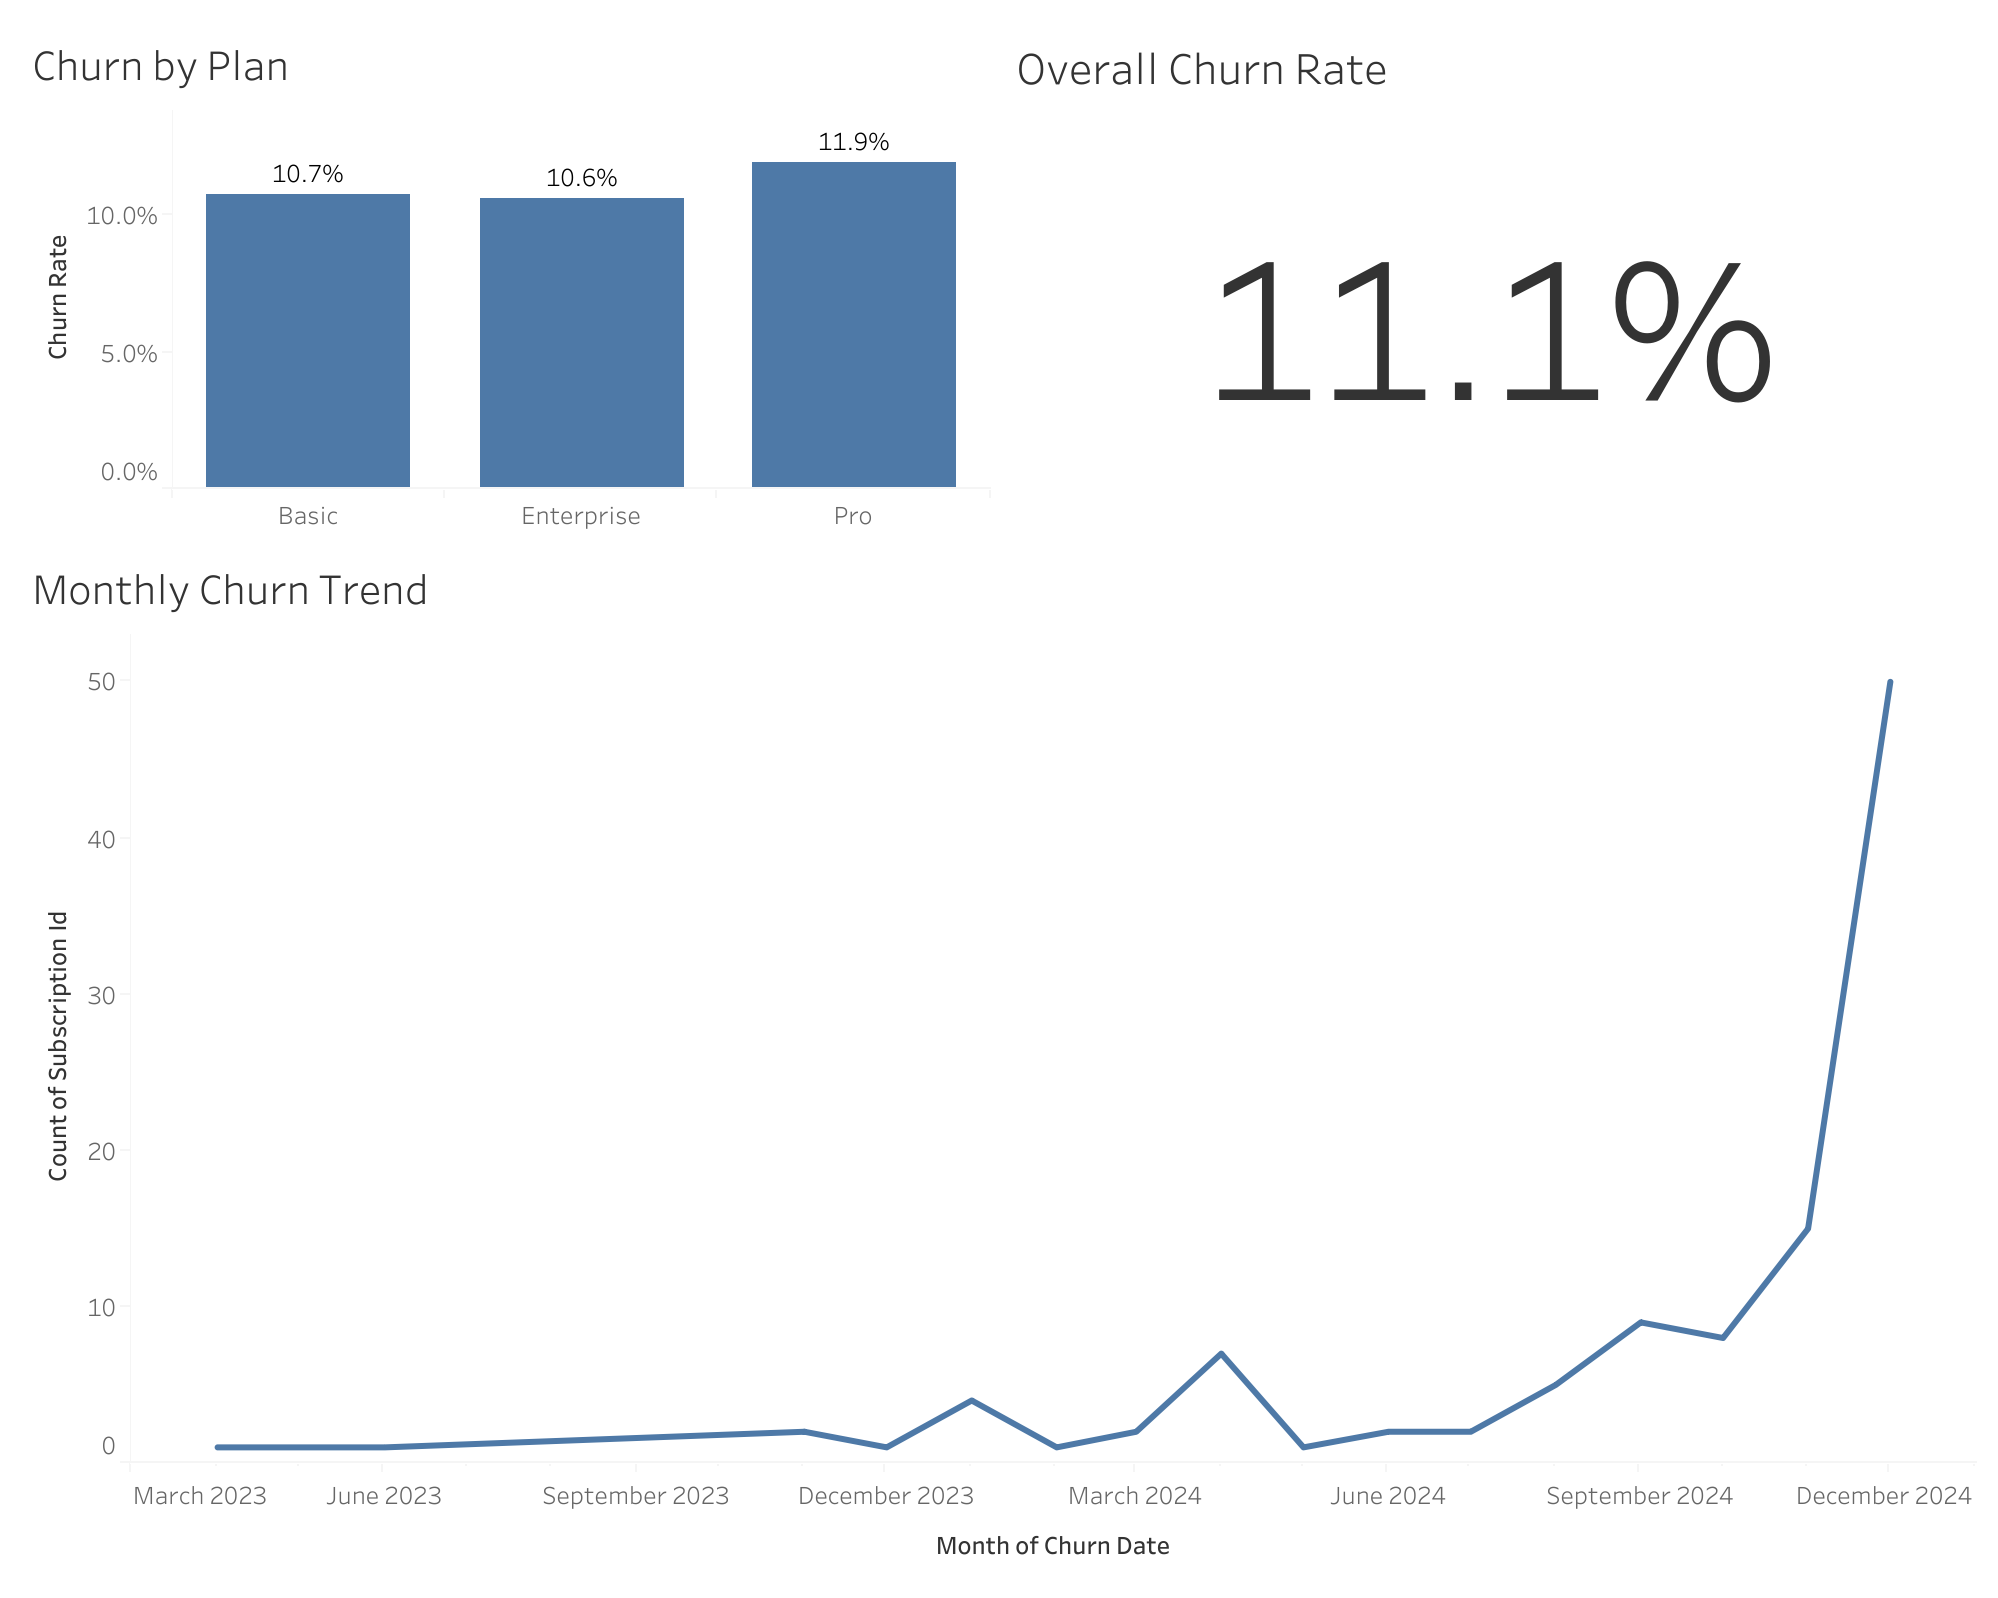

What the dashboard file says about the page in this screenshot:
{"tool":"tableau","page":{"name":"Dashboard 1","canvas":[1000,800],"ordinal":0},"visuals":[{"type":"worksheet","title":"Churn by Plan","mark":"Automatic","rows":["Calculation_0001141790609411"],"cols":["plan_tier"],"box":[8,8,492,261.9]},{"type":"worksheet","title":"Overall Churn Rate","mark":"Text","box":[500,8,492,261.9]},{"type":"worksheet","title":"Monthly Churn Trend","mark":"Line","rows":["subscription_id"],"cols":["Calculation_0014198500732992"],"box":[8,269.9,984,522.1]}]}

Visuals, with their boxes in screenshot pixels (x1, y1, x2, y2), scaled from the page's 1000x800 canvas onto the 1998x1598 screenshot:
"Churn by Plan" worksheet: 16,16,999,539
"Overall Churn Rate" worksheet (Text marks): 999,16,1982,539
"Monthly Churn Trend" worksheet (Line marks): 16,539,1982,1582
